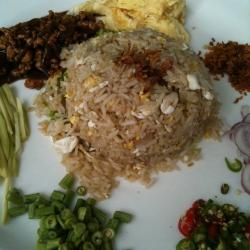omelette: (68, 1, 199, 43)
rice: (48, 31, 226, 177)
